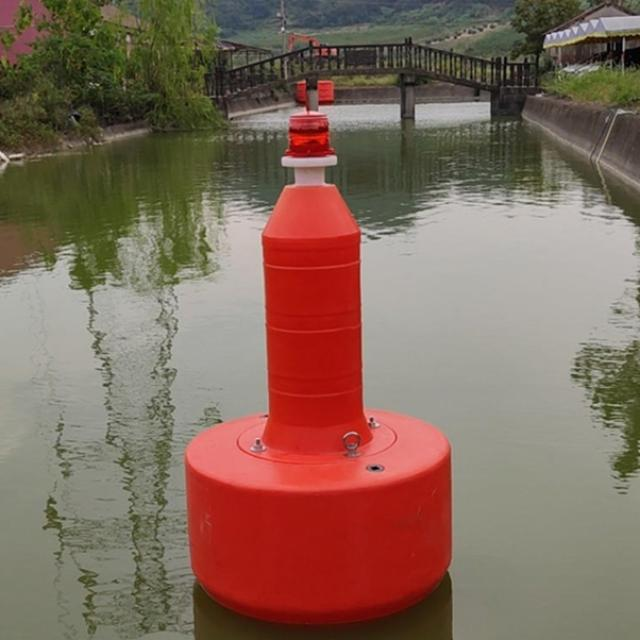buoy: (183, 105, 461, 619)
